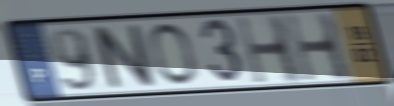3: (196, 15, 245, 88)
9: (50, 26, 100, 93)
H: (282, 11, 356, 86), (233, 13, 307, 88)
N: (88, 22, 160, 91)
O: (147, 21, 200, 87)
